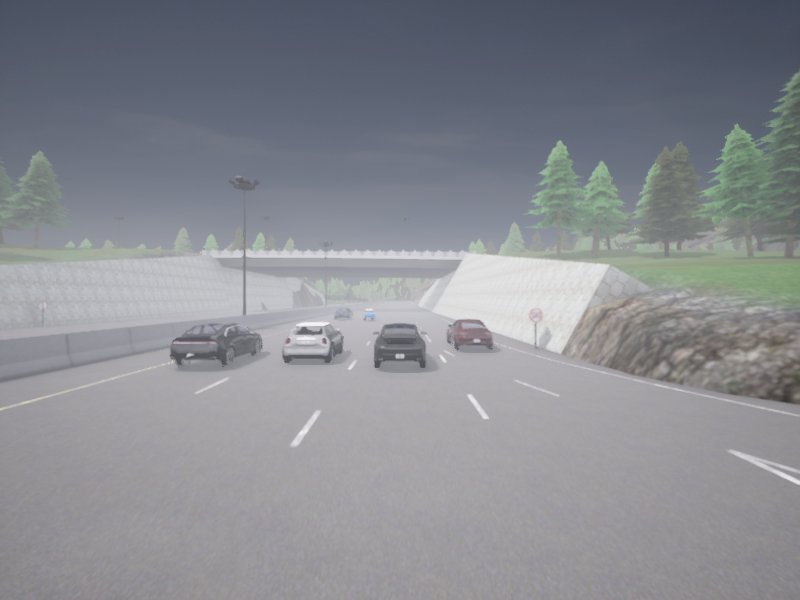vehicle: (170, 323, 261, 366), (283, 322, 343, 362), (373, 323, 426, 366), (446, 319, 492, 349), (334, 308, 352, 319), (364, 309, 375, 320)
